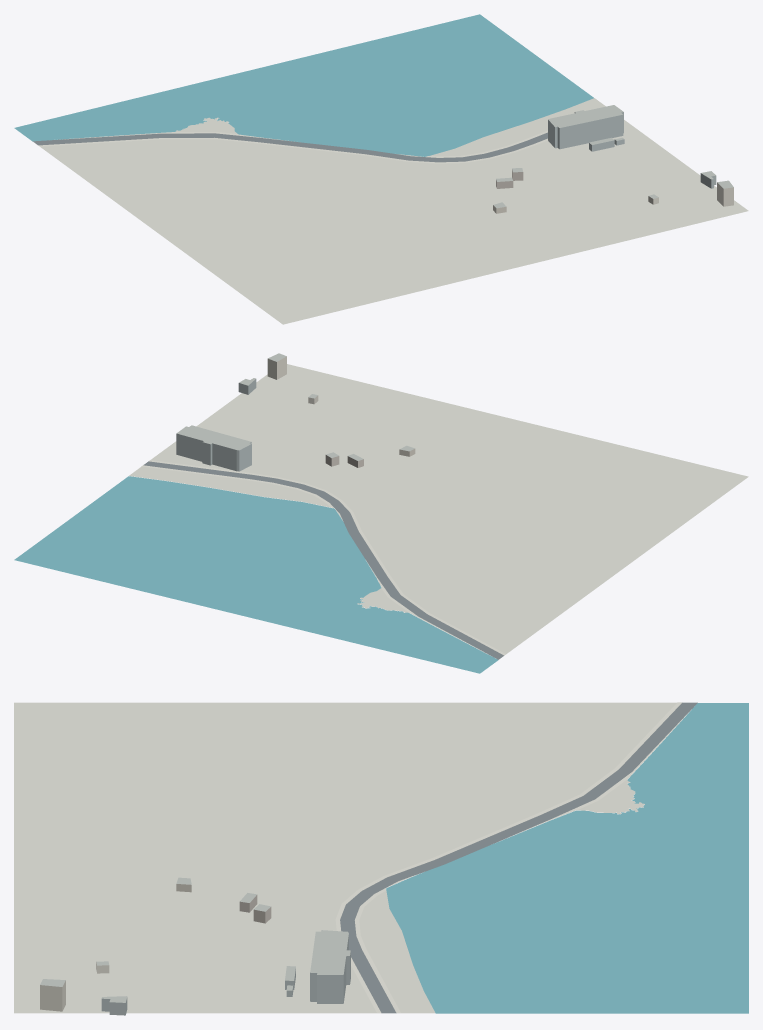
3 renders of one model, top to bottom at view 1: azimuth 30°, elevation 25°; view 2: azimuth 150°, elevation 25°; view 3: azimuth 270°, elevation 25°, orthographic. The views are drawn at different scales.
Visible parts, largest first — view 1: city; view 2: city; view 3: city.
Boxes of the visible parts, x1=… form: city: x1=14, y1=14, x2=748, y2=324; city: x1=14, y1=353, x2=748, y2=673; city: x1=14, y1=702, x2=748, y2=1015.
Size of the model in its own units: 504 by 21.98 by 500.
